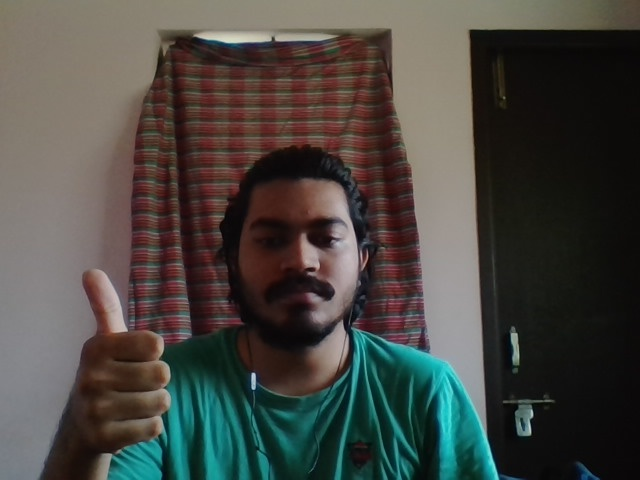ThumbsUp: (74, 268, 171, 456)
